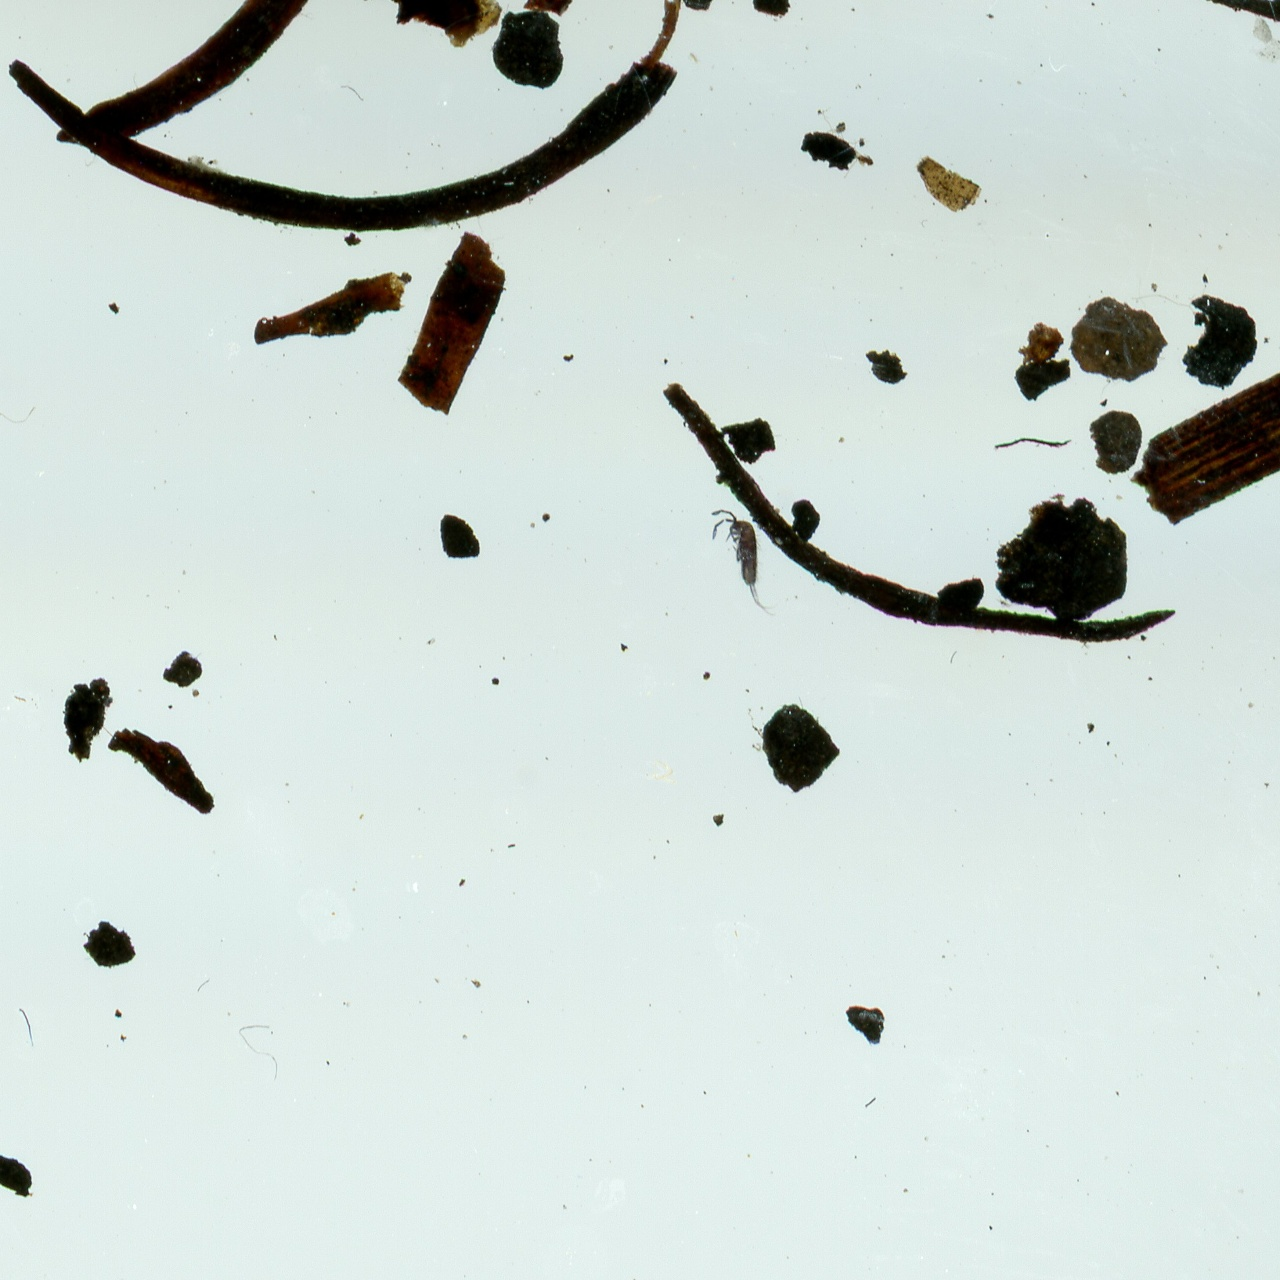arthropod: (709, 495, 783, 631)
